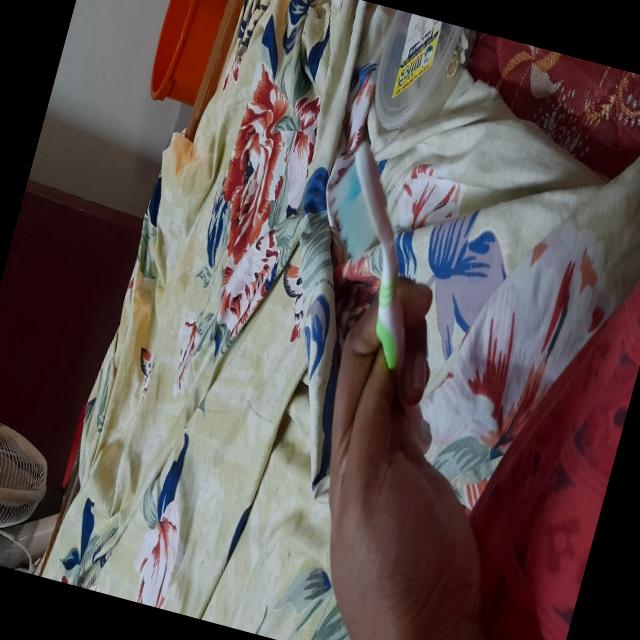Tooth_Brush - Non Recyclable: (264, 120, 474, 433)
